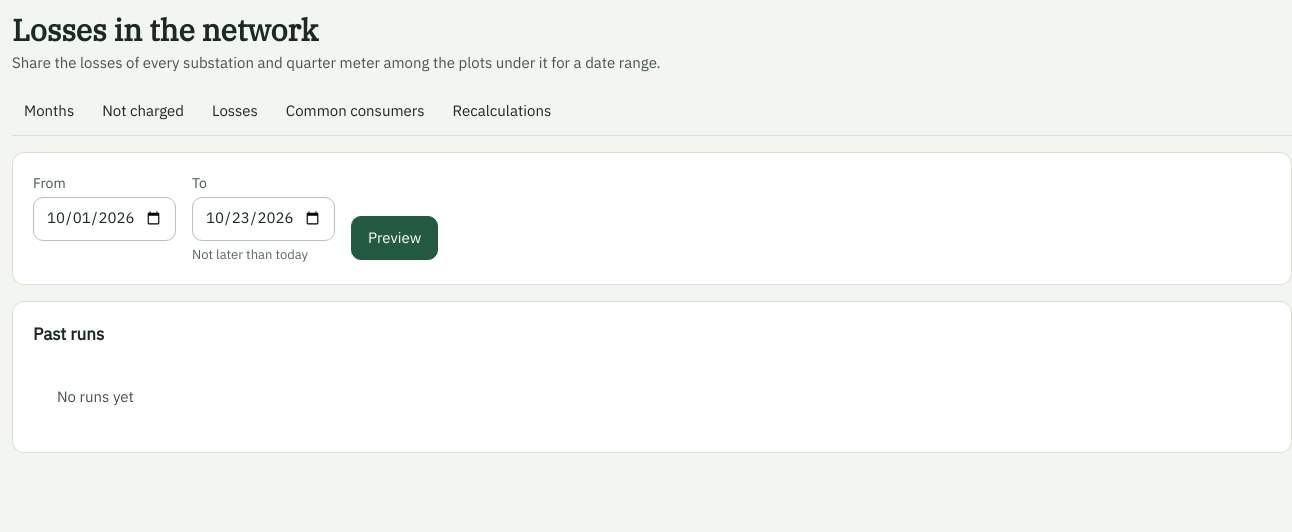
LossesPage › shows the settings hint only to those who can open the settings
This screenshot has width=1292, height=532.
Click the button "Preview". click: (395, 238)
box: [351,216,438,260]
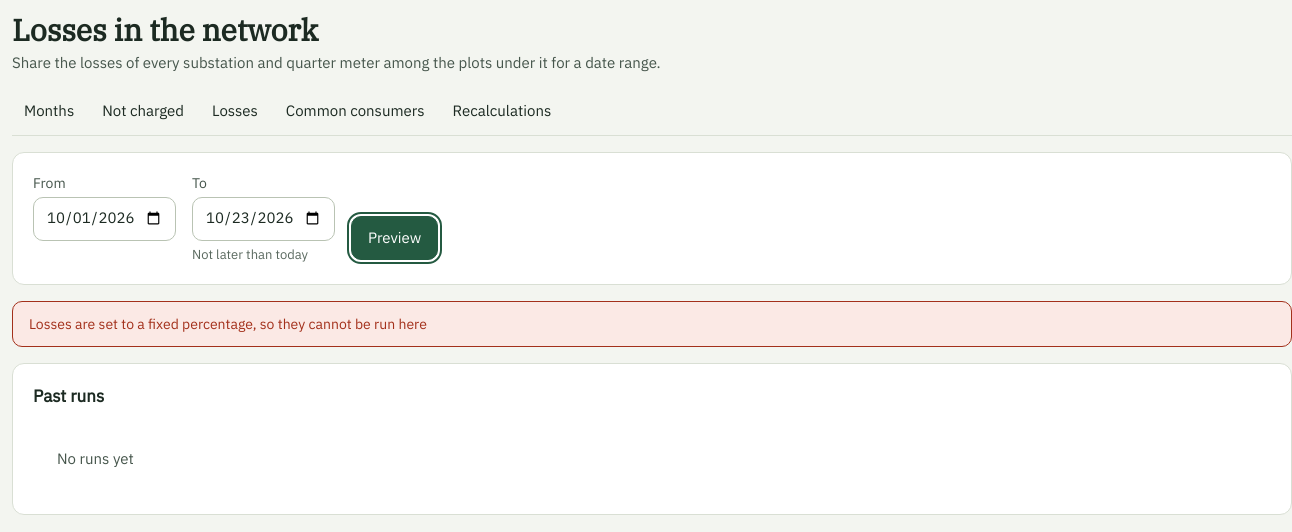
Result: the message "Losses are set to a fixed percentage, so they cannot be run here" is shown at [12,301,1291,347]
